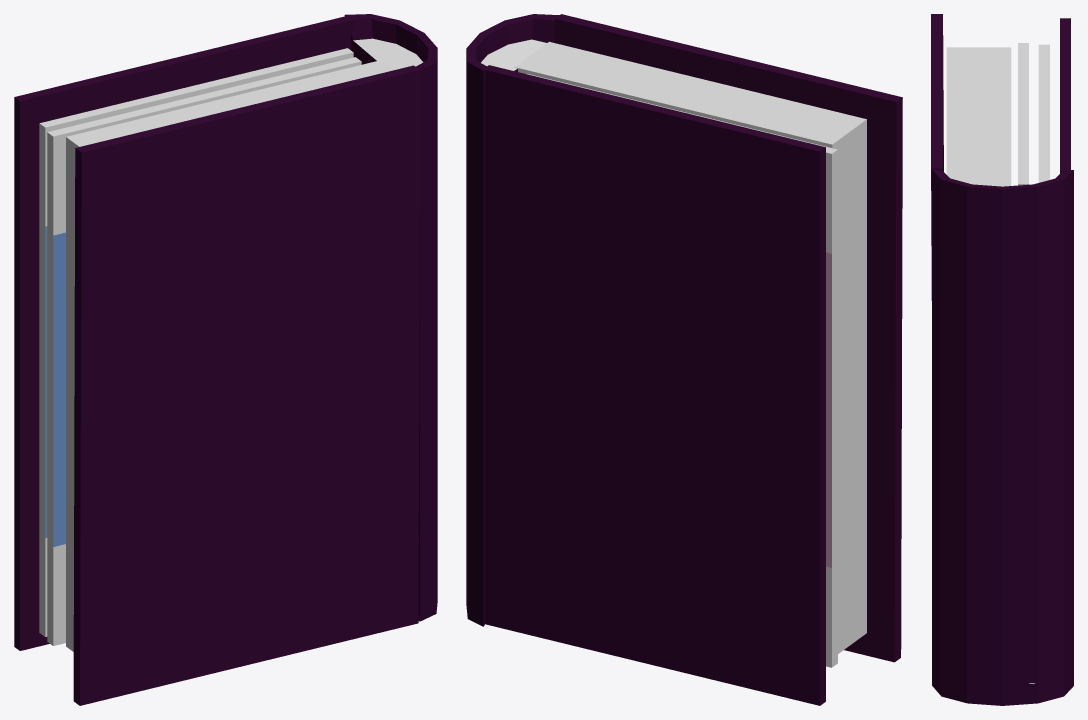
File: InforamtionsBuch 1.fbx
The picture shows the model from 3 angles, left to right: view 1: azimuth 30°, elevation 25°; view 2: azimuth 150°, elevation 25°; view 3: azimuth 270°, elevation 25°; orthographic projection. The views are drawn at different scales.
Visible parts, largest first — view 1: Cube.027, Cube, Cube.001, Cube.002; view 2: Cube, Cube.027, Cube.001; view 3: Cube.027, Cube, Cube.002, Cube.001.
Part boxes in pixels (bbox=[...]): Cube.027: bbox=[66, 14, 437, 705]; Cube: bbox=[14, 15, 354, 650]; Cube.001: bbox=[47, 57, 361, 645]; Cube.002: bbox=[39, 48, 353, 636]; Cube: bbox=[483, 65, 825, 705]; Cube.027: bbox=[466, 14, 902, 662]; Cube.001: bbox=[526, 74, 837, 667]; Cube.027: bbox=[931, 14, 1073, 705]; Cube: bbox=[1060, 18, 1070, 173]; Cube.002: bbox=[1038, 44, 1049, 182]; Cube.001: bbox=[1018, 43, 1028, 185].
Bounding box in the file's own units: 24.28 × 33.75 × 8.42.
